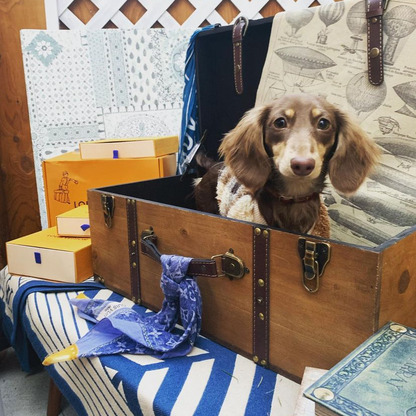dachshund: (200, 93, 376, 254)
